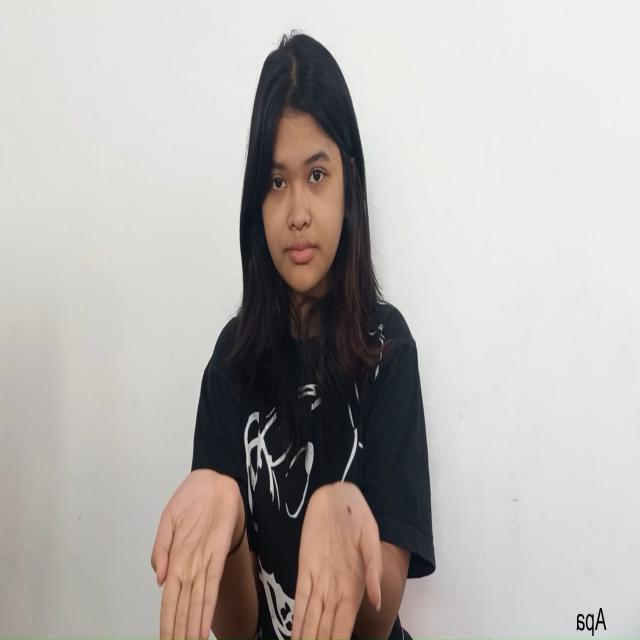Apa -BISINDO-: (148, 463, 384, 640)
